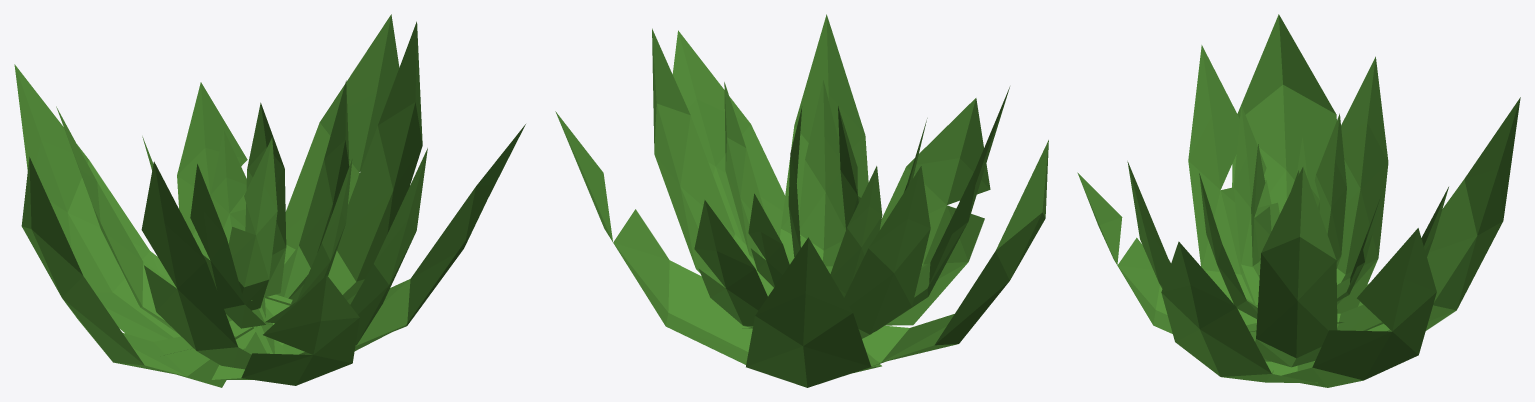
Rendered from plant-bush.glb.
3 views of the same model, side by side, from view 1: azimuth 30°, elevation 25°; view 2: azimuth 150°, elevation 25°; view 3: azimuth 270°, elevation 25° (orthographic). The views are drawn at different scales.
Parts seen in each view (by area): view 1: plant-bush-small; view 2: plant-bush-small; view 3: plant-bush-small.
Part boxes in pixels (x1,y1,x2,y2): plant-bush-small: [14, 14, 525, 387]; plant-bush-small: [555, 14, 1048, 387]; plant-bush-small: [1077, 14, 1520, 387].
Bounding box in the file's own units: 1.48 × 0.9636 × 1.41.
